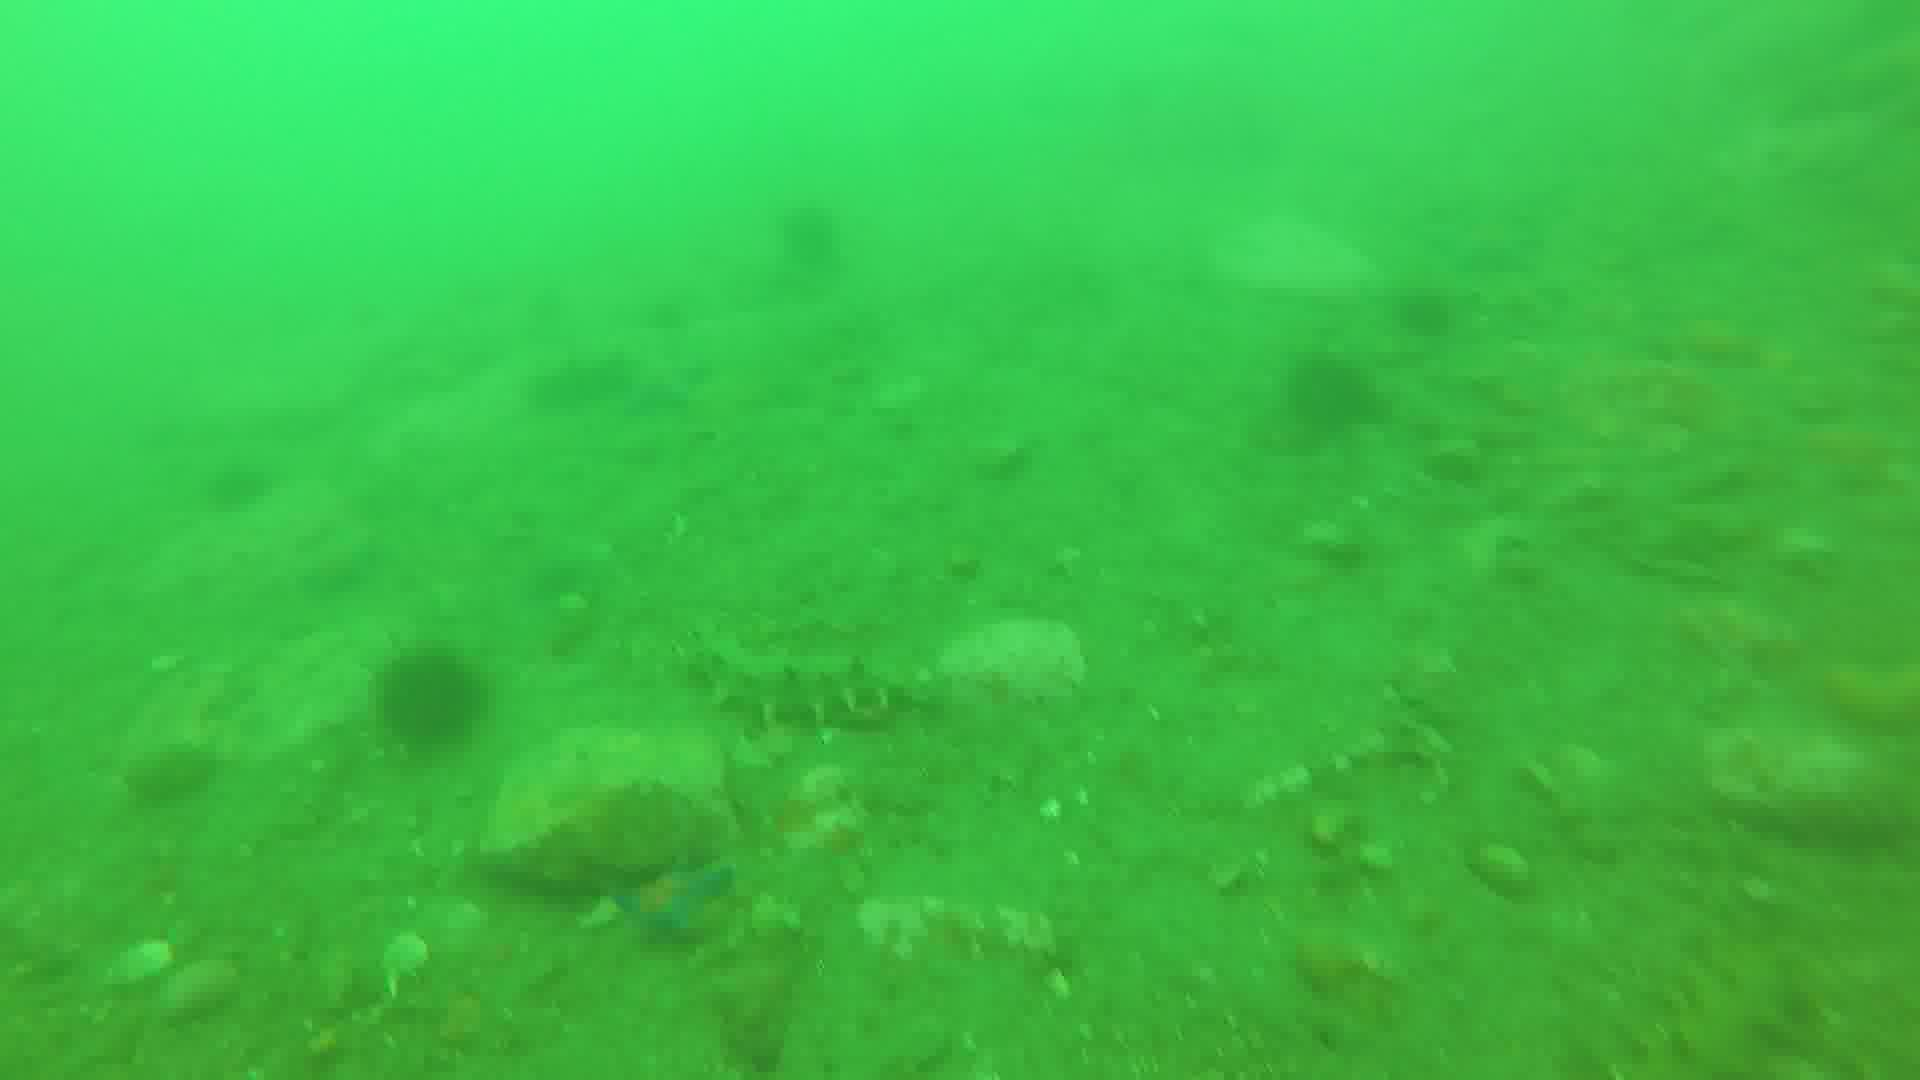echinus: (384, 645, 495, 749), (1288, 349, 1378, 429), (206, 458, 278, 512)
holothurian: (695, 621, 920, 721), (1611, 964, 1800, 1080)
starfish: (618, 861, 740, 944), (1811, 419, 1905, 495), (620, 340, 711, 415)
